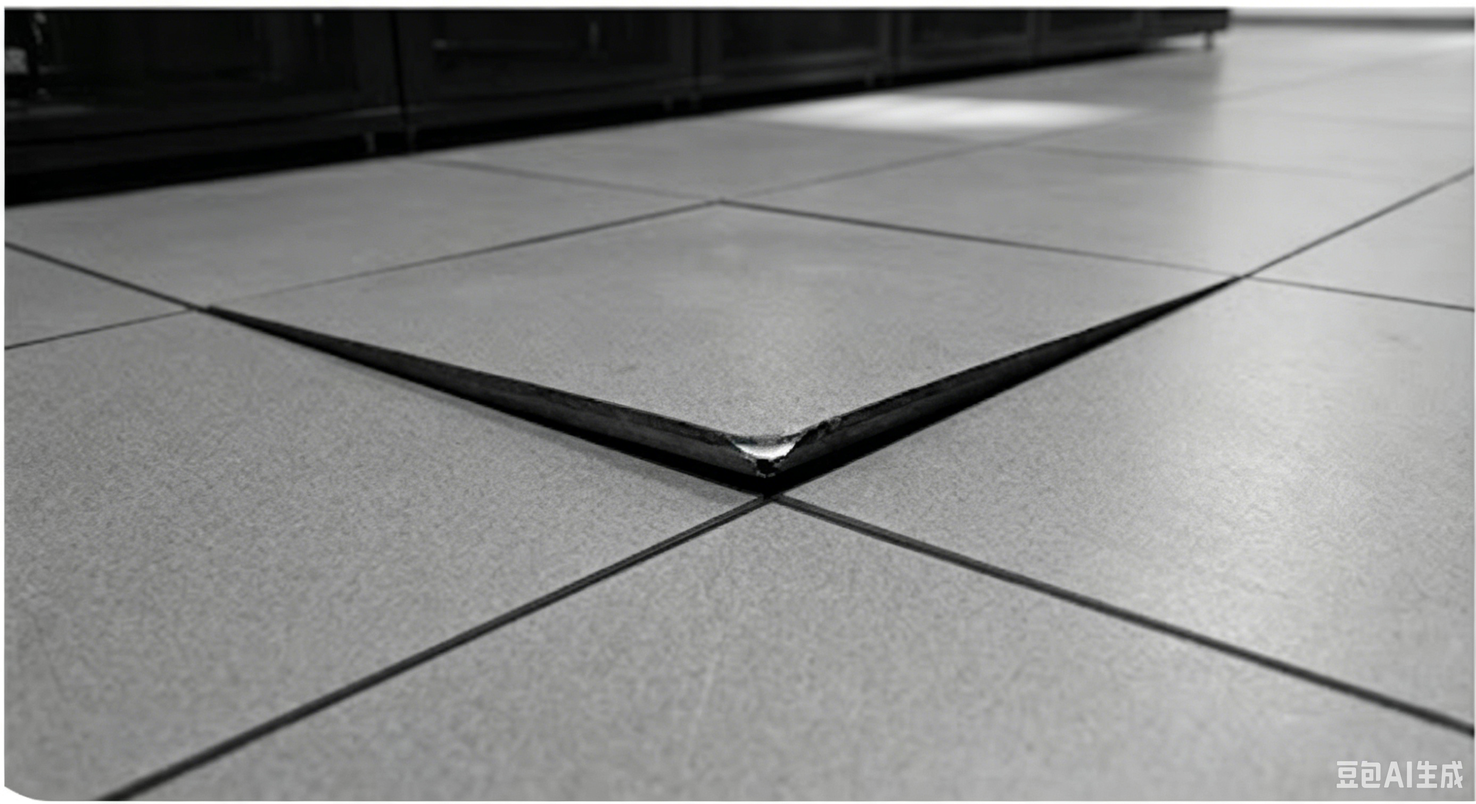floor_defect: (229, 300, 760, 501), (767, 358, 1069, 519), (1019, 264, 1235, 364)
